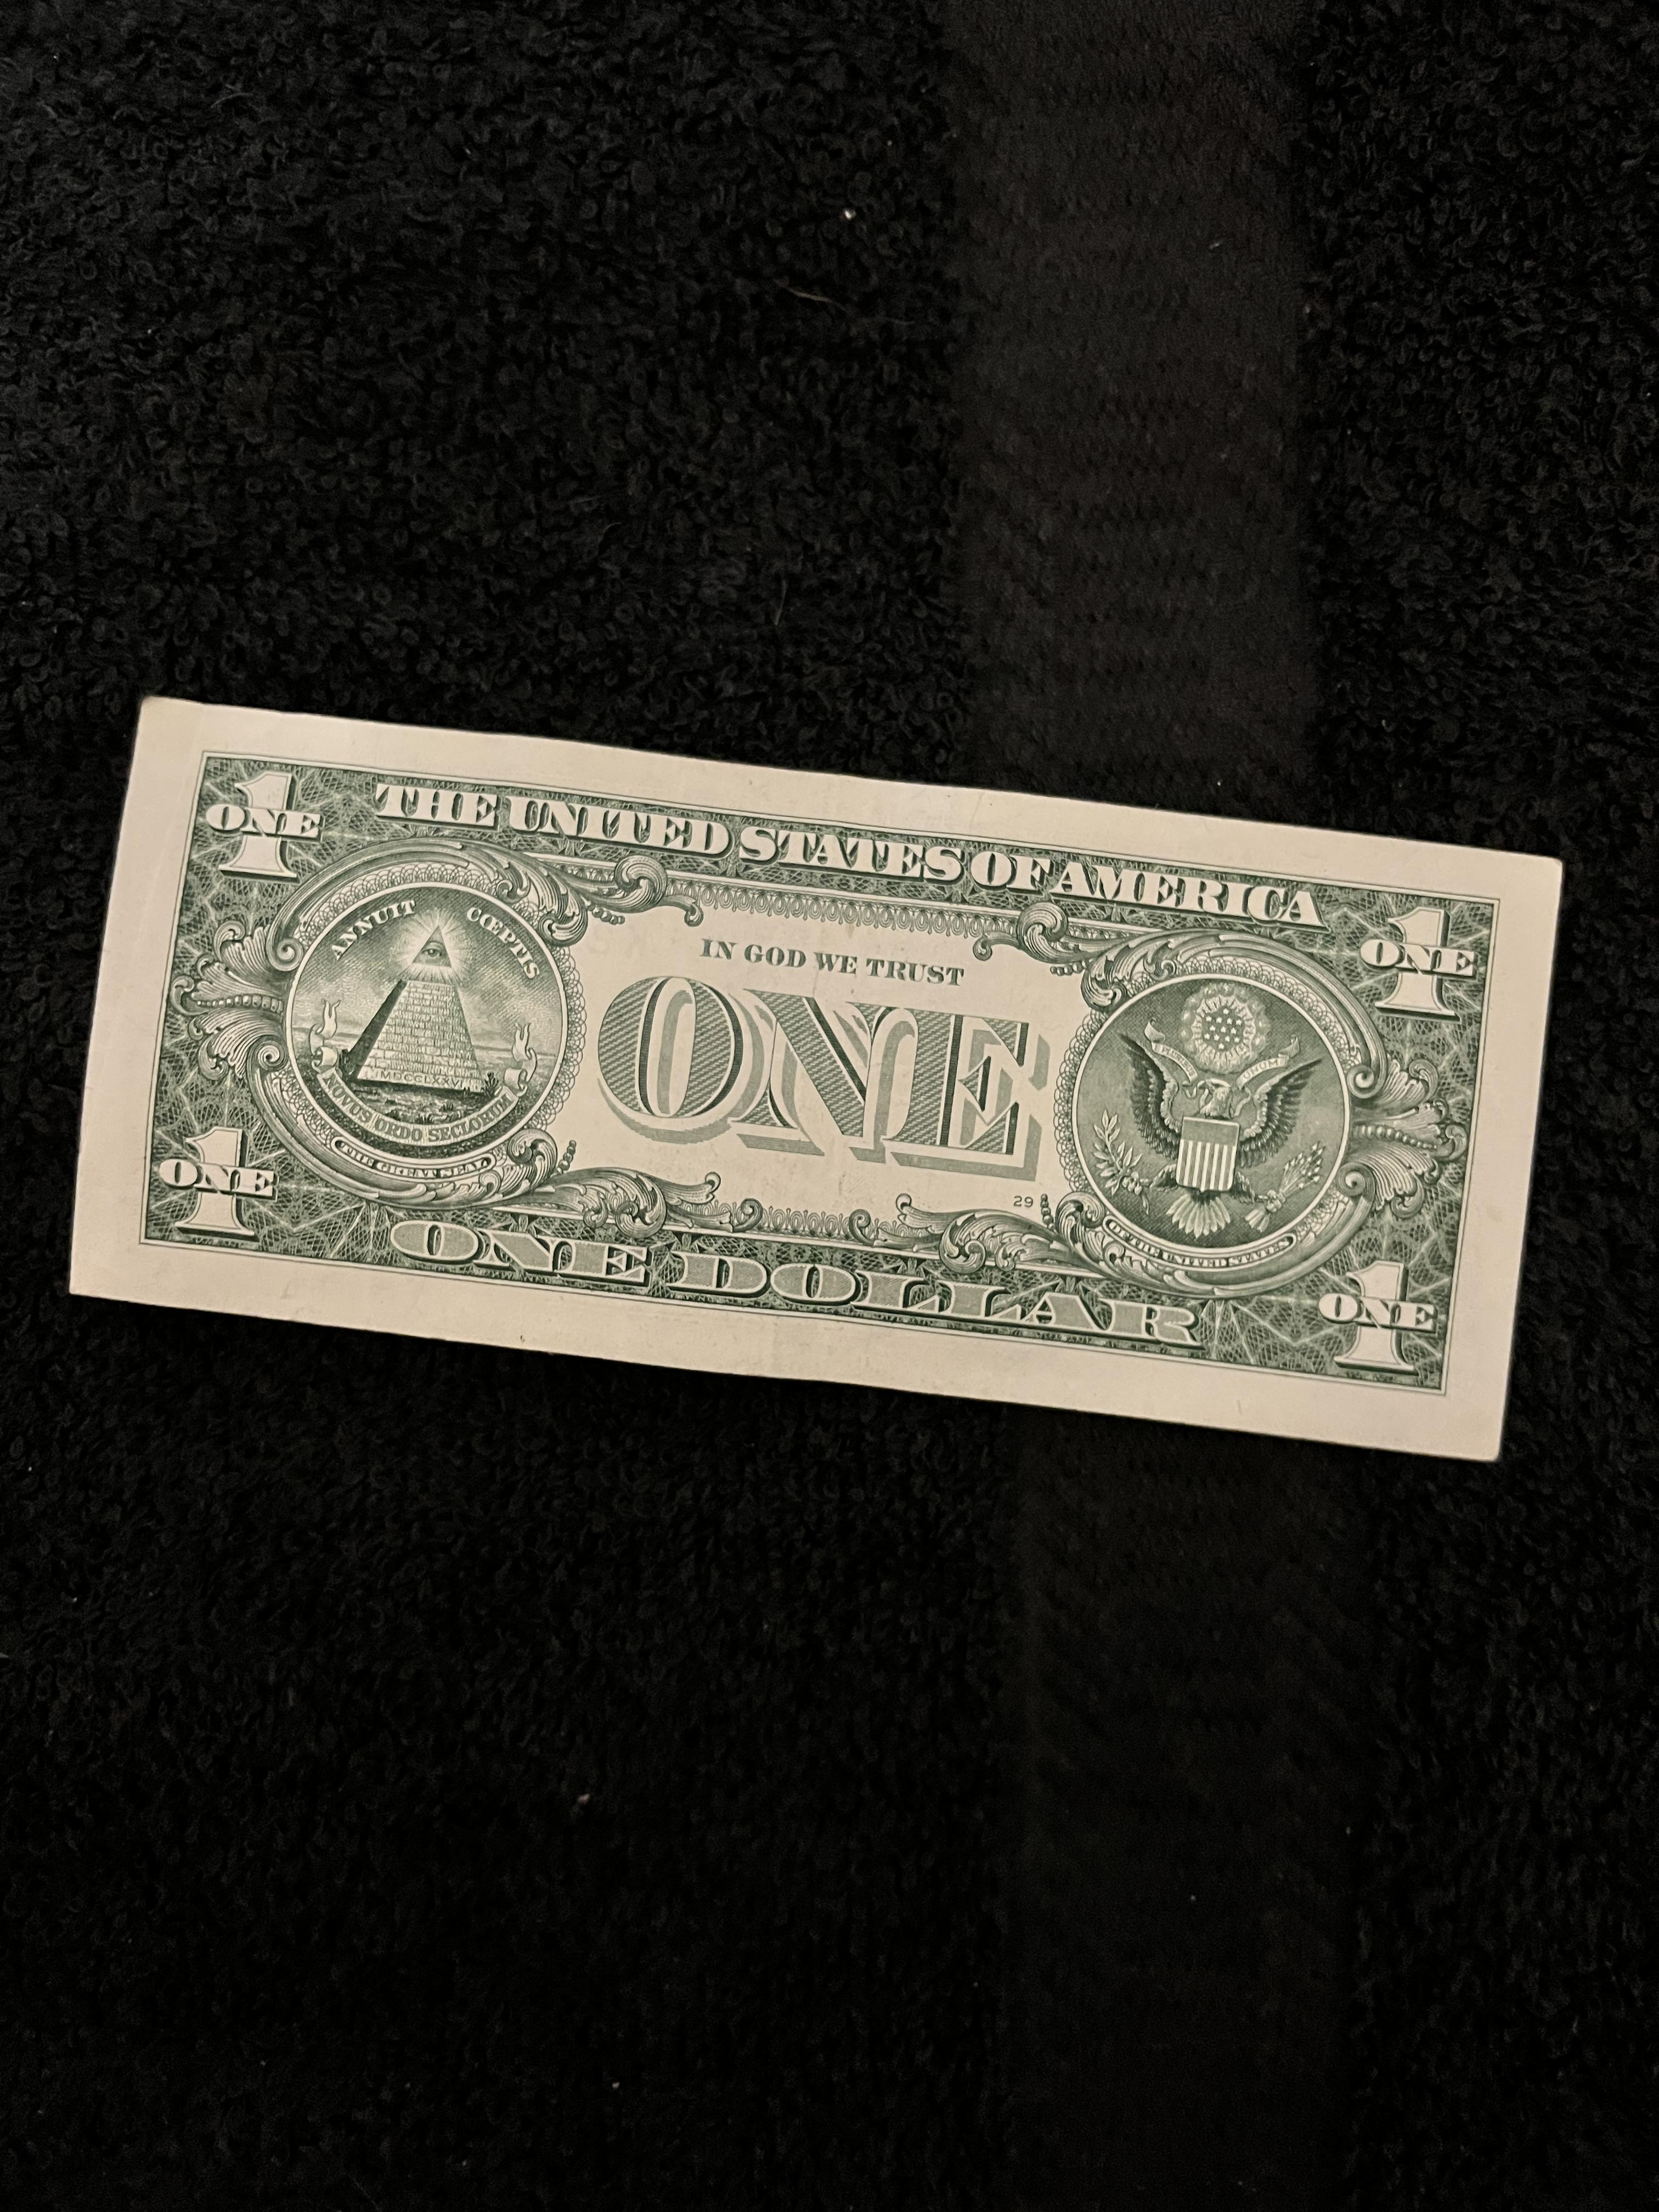OneBill: (75, 665, 1558, 1510)
